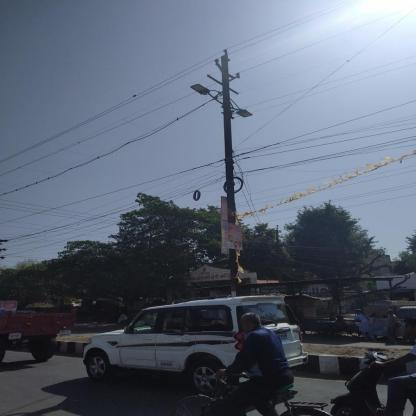Electrical Pole: (193, 48, 261, 302)
